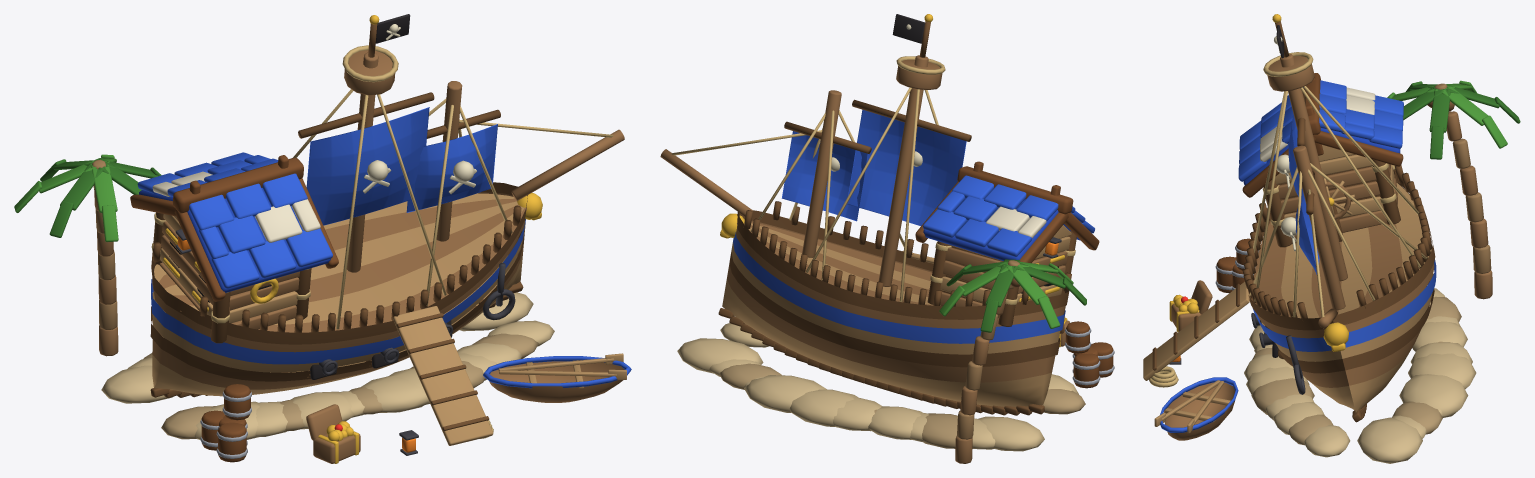
Rendered from TownCentre.glb.
3 renders of one model, left to right at view 1: azimuth 30°, elevation 25°; view 2: azimuth 150°, elevation 25°; view 3: azimuth 270°, elevation 25°, orthographic. The views are drawn at different scales.
Visible parts, largest first — view 1: TownCentre, anim_sway_24_26_flag0; view 2: TownCentre, anim_sway_24_26_flag0; view 3: TownCentre, anim_sway_40_50_helm.
Boxes of the visible parts, x1,y1,x2,y2 form: TownCentre: (14,15,631,463); anim_sway_24_26_flag0: (375,14,410,43); TownCentre: (660,14,1114,463); anim_sway_24_26_flag0: (892,14,924,43); TownCentre: (1143,14,1520,463); anim_sway_40_50_helm: (1323,178,1354,222).
Size of the model in its own units: 7.22 by 5.17 by 4.89.
